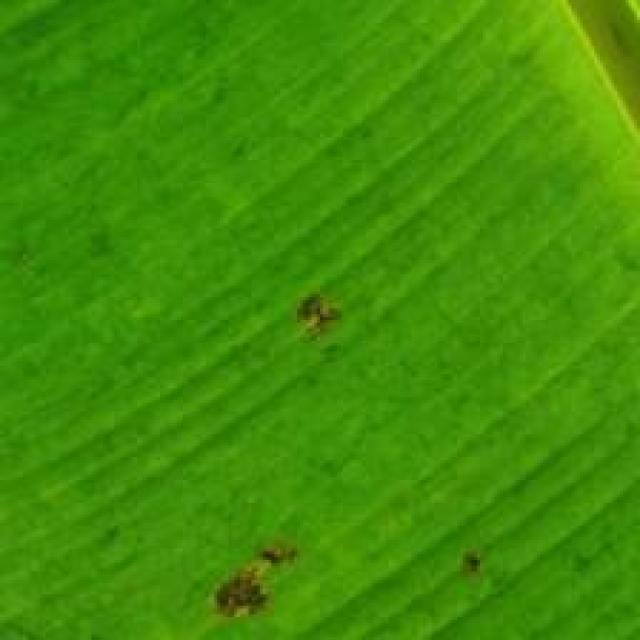Downey_mildrew: (179, 531, 335, 640), (254, 271, 370, 398), (431, 544, 546, 594)
